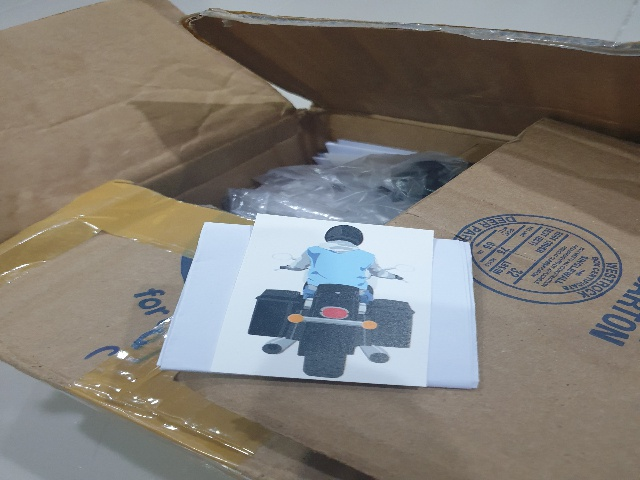Motorcycle: (260, 222, 416, 380)
